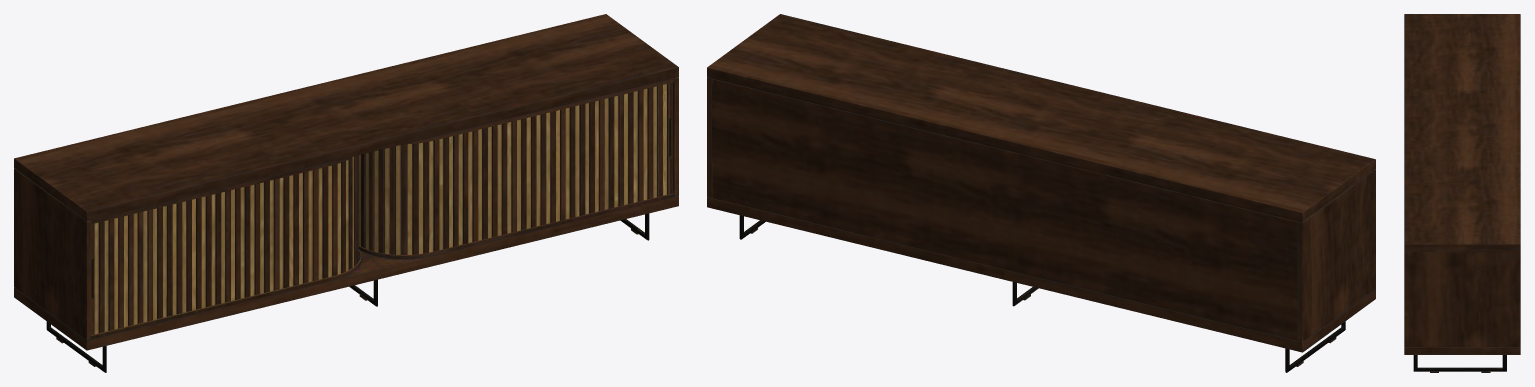
The model's file is modern_wooden_cabinet.glb.
3 renders of one model, left to right at view 1: azimuth 30°, elevation 25°; view 2: azimuth 150°, elevation 25°; view 3: azimuth 270°, elevation 25°, orthographic. The views are drawn at different scales.
Parts seen in each view (by area): view 1: modern_wooden_cabinet_body, modern_wooden_cabinet_door_r, modern_wooden_cabinet_door_l; view 2: modern_wooden_cabinet_body; view 3: modern_wooden_cabinet_body.
Part boxes in pixels (x1,y1,x2,y2): modern_wooden_cabinet_body: (14, 14, 678, 372); modern_wooden_cabinet_door_r: (359, 82, 672, 254); modern_wooden_cabinet_door_l: (91, 155, 358, 334); modern_wooden_cabinet_body: (707, 14, 1375, 372); modern_wooden_cabinet_body: (1404, 14, 1520, 372).
Size of the model in its own units: 2.44 by 0.6801 by 0.52.
1 material, 1 textured.
